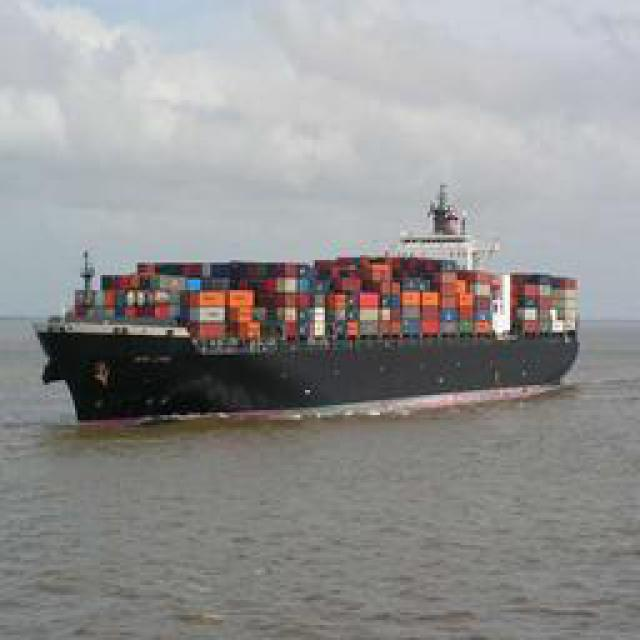Ship: (29, 185, 594, 423)
